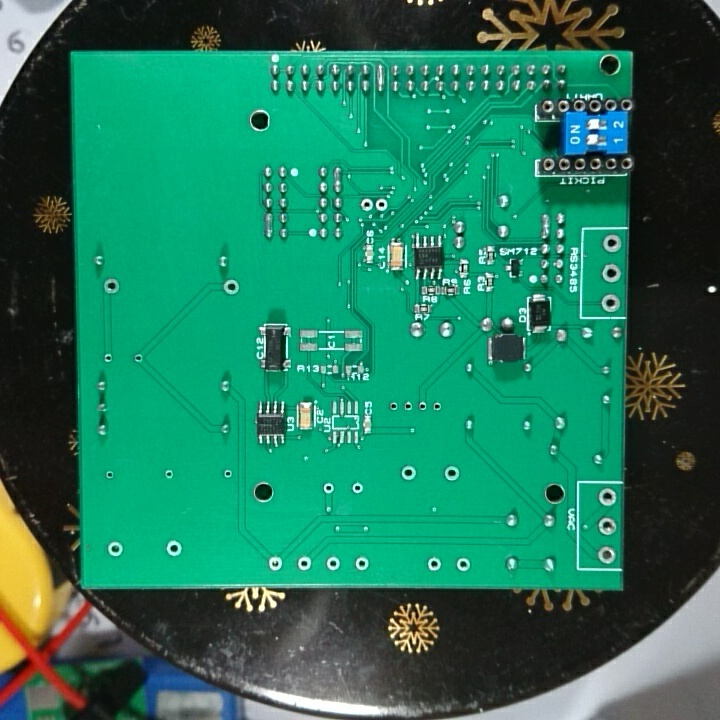F: (599, 292, 623, 314), (601, 260, 621, 286), (596, 515, 618, 538), (601, 232, 622, 255), (101, 275, 121, 299), (105, 539, 127, 560), (598, 486, 618, 508), (596, 544, 616, 566), (453, 555, 475, 575), (220, 278, 242, 298), (424, 553, 444, 574), (164, 538, 184, 558), (399, 463, 418, 483), (324, 553, 341, 574), (443, 463, 460, 484), (266, 554, 284, 572), (353, 554, 370, 573), (296, 554, 312, 574), (359, 197, 375, 215), (102, 466, 118, 483), (375, 197, 390, 215), (322, 480, 337, 497), (101, 350, 116, 367), (220, 466, 235, 482), (162, 467, 177, 482), (350, 481, 364, 497), (430, 400, 444, 416), (387, 399, 401, 415), (416, 400, 430, 415), (131, 350, 145, 365), (402, 398, 412, 415)
P: (374, 62, 387, 95), (331, 164, 346, 192), (540, 212, 553, 240), (263, 211, 276, 238)
